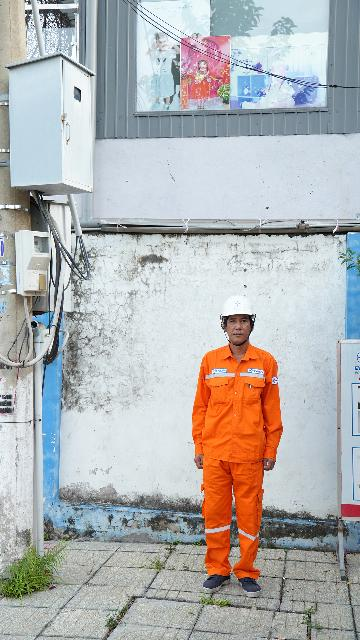helmet: (213, 282, 271, 334)
shoes: (234, 565, 276, 602), (198, 567, 235, 602)
